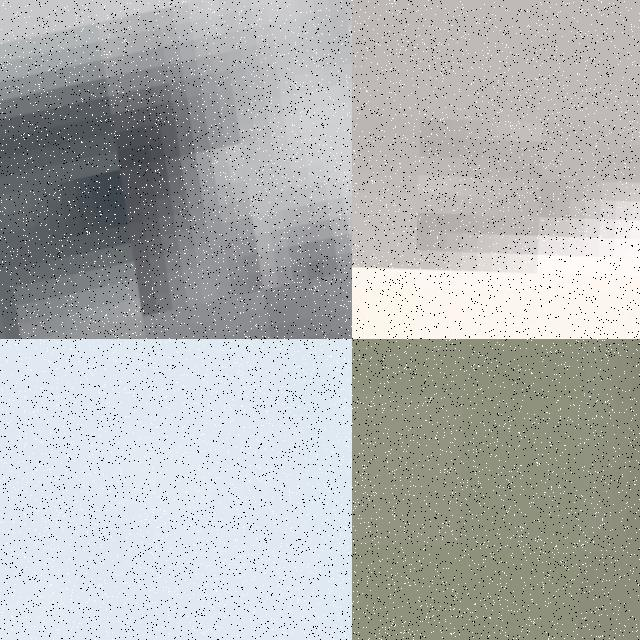0: (0, 0, 352, 339)
drone: (0, 339, 352, 640)
